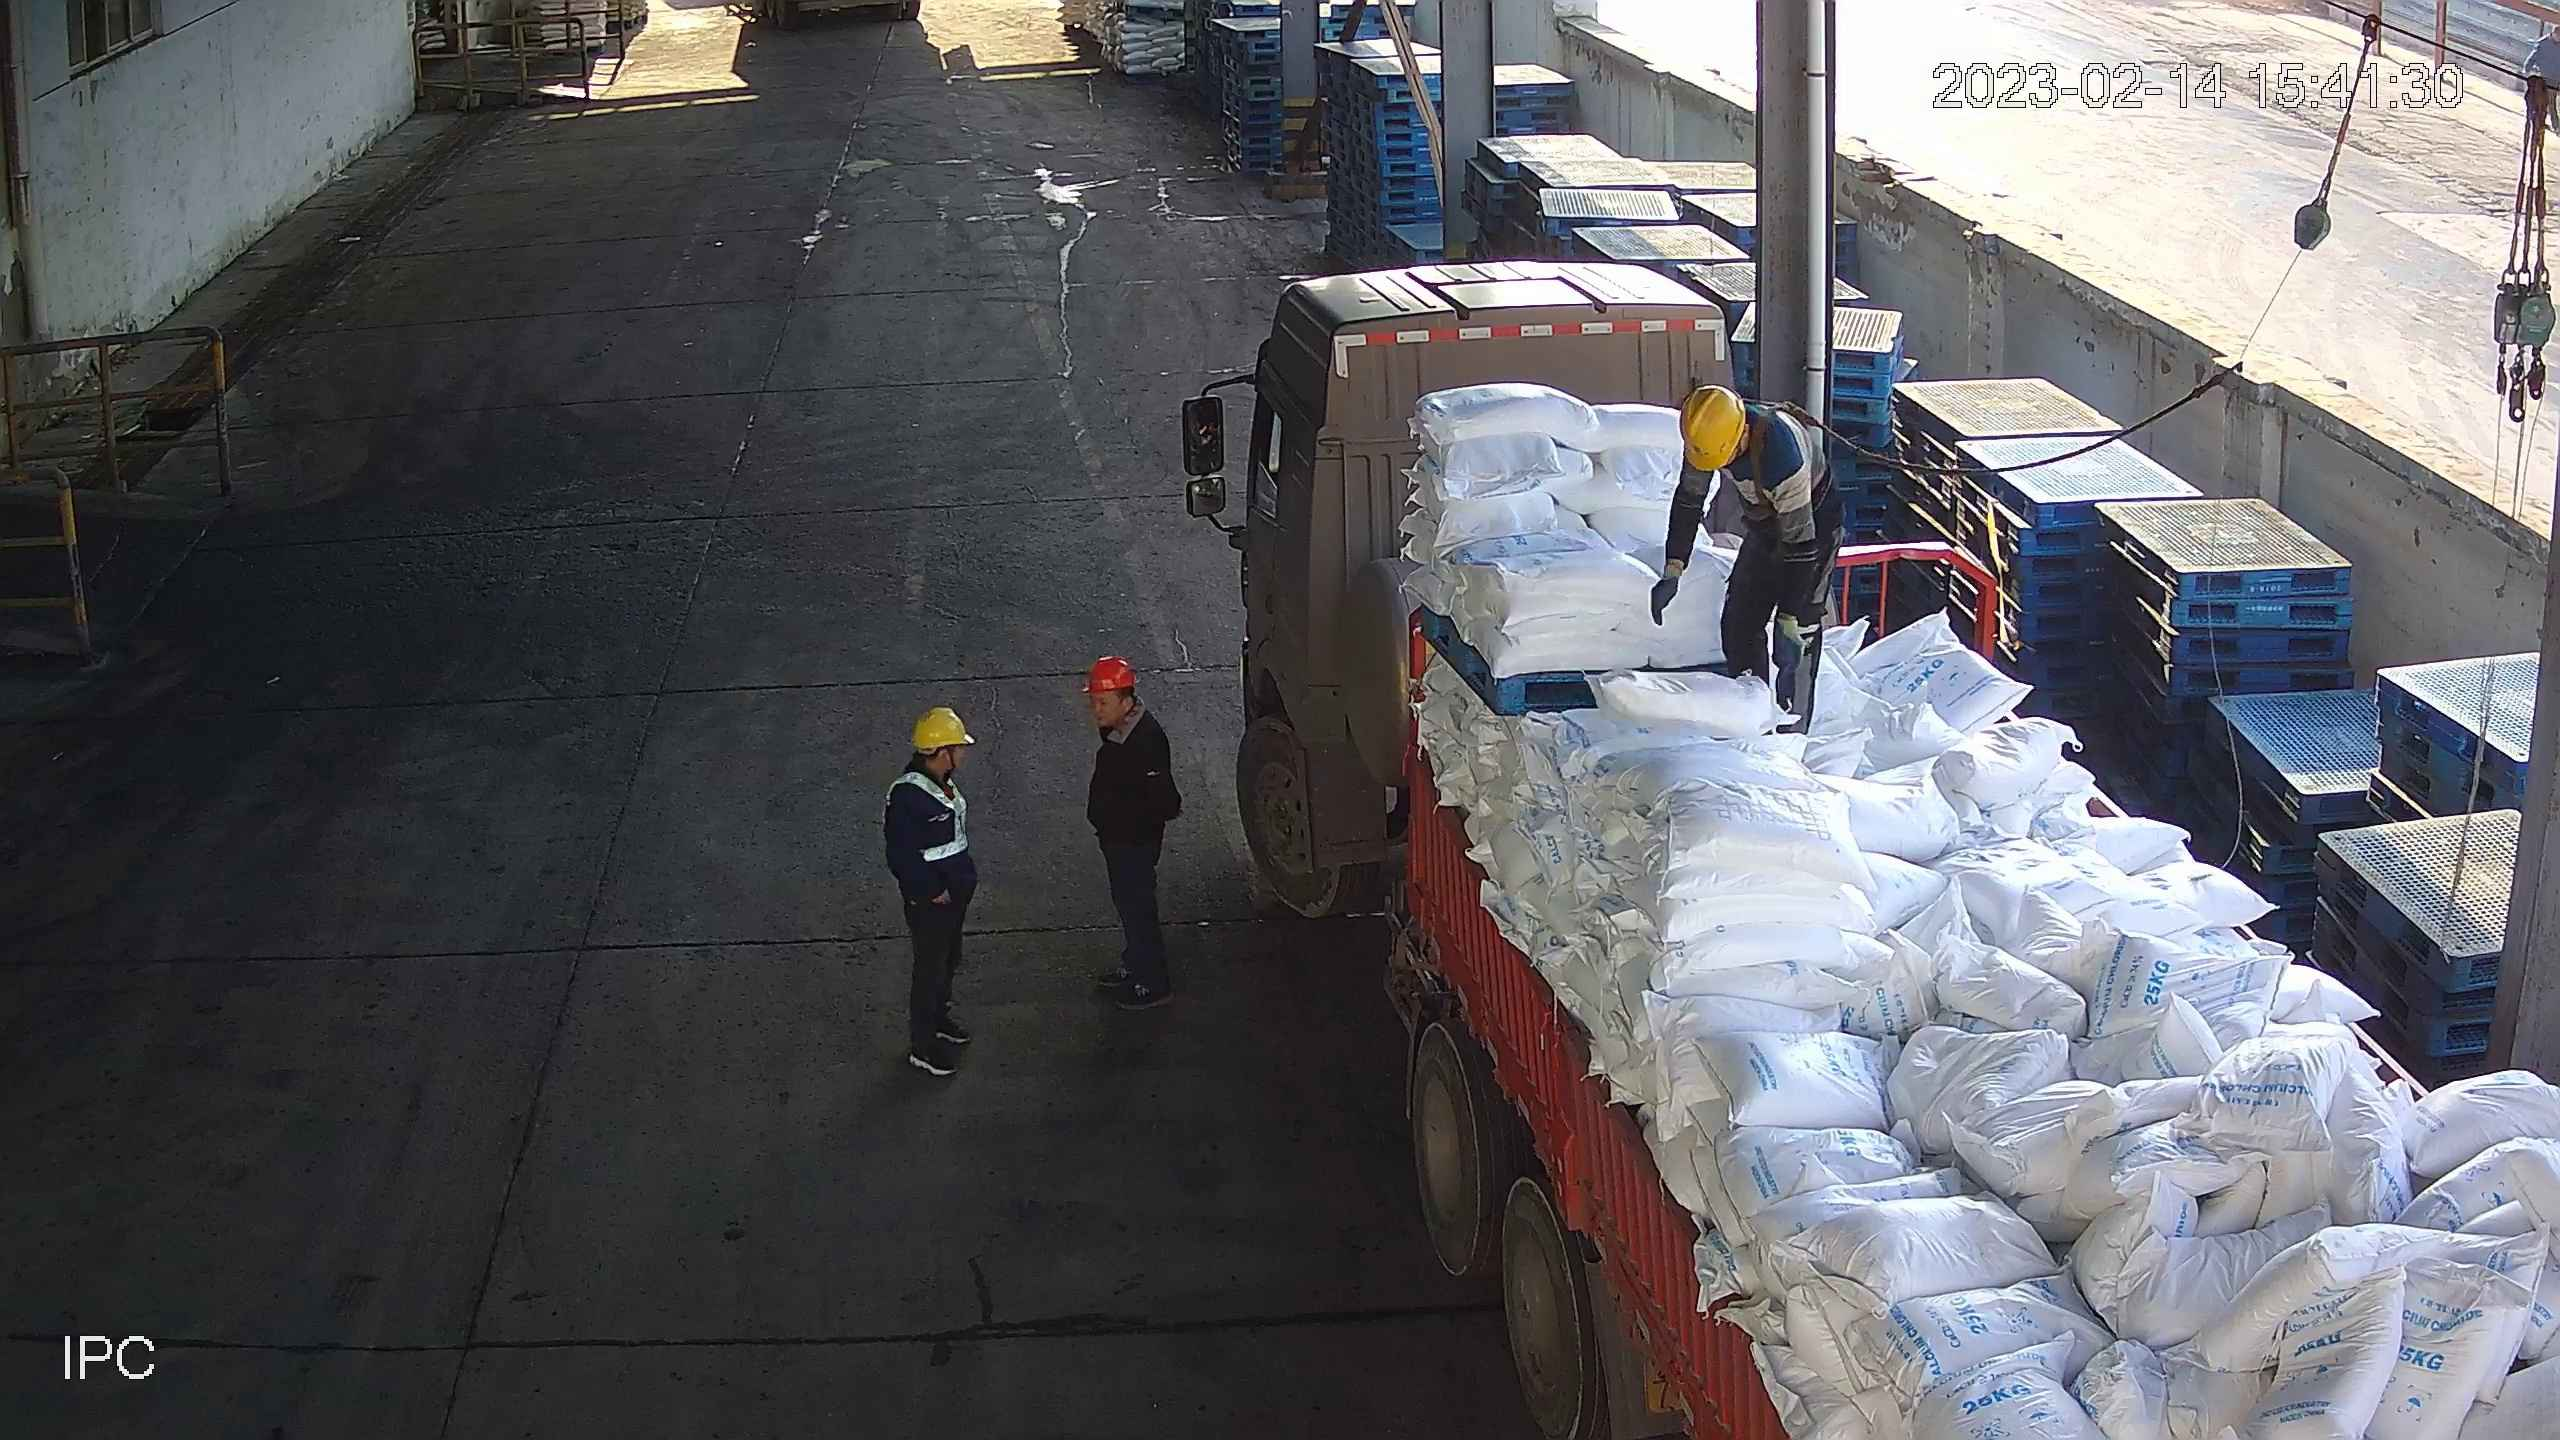belt: (1742, 387, 1816, 452)
head: (1661, 384, 1811, 497), (886, 708, 981, 834), (1072, 655, 1173, 770)
helmet: (1677, 386, 1748, 475), (905, 699, 981, 747), (1077, 651, 1142, 701)
people: (1649, 386, 1848, 732), (879, 705, 990, 1077), (1081, 658, 1194, 1008)
truck: (1181, 258, 2560, 1440)
